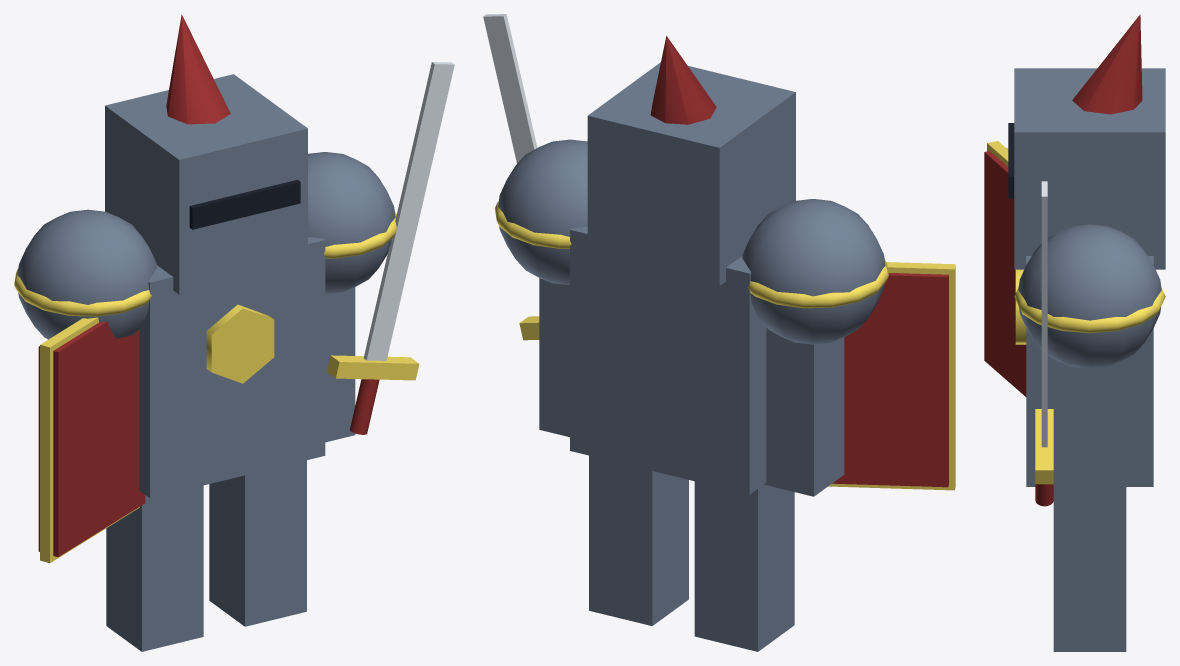
File: avatar_knight.glb
3 views of the same model, side by side, from view 1: azimuth 30°, elevation 25°; view 2: azimuth 150°, elevation 25°; view 3: azimuth 270°, elevation 25° (orthographic). The views are drawn at different scales.
Visible parts, largest first — view 1: Breastplate, Helmet, KnightShield, Leg_1, Pauldron_0, Leg_0, Greatsword, Pauldron_1, ChestEmblem, Arm_1, HelmetPlume, VisorSlit; view 2: Breastplate, Helmet, KnightShield, Pauldron_0, Leg_0, Leg_1, Arm_0, Pauldron_1, Arm_1, Greatsword, HelmetPlume; view 3: Helmet, Pauldron_1, Leg_1, Arm_1, Breastplate, KnightShield, HelmetPlume, Greatsword, VisorSlit, ChestEmblem.
Boxes of the visible parts, x1,y1,x2,y2 form: Breastplate: (139, 237, 325, 498); Helmet: (105, 74, 307, 294); KnightShield: (38, 317, 145, 563); Leg_1: (209, 460, 306, 626); Pauldron_0: (14, 209, 157, 339); Leg_0: (106, 485, 203, 651); Greatsword: (327, 62, 454, 434); Pauldron_1: (308, 152, 397, 293); ChestEmblem: (206, 304, 274, 383); Arm_1: (325, 287, 355, 442); HelmetPlume: (166, 14, 230, 124); VisorSlit: (189, 179, 300, 229); Breastplate: (570, 226, 766, 494); Helmet: (587, 62, 795, 285); KnightShield: (828, 262, 955, 490); Pauldron_0: (742, 199, 888, 344); Leg_0: (694, 481, 794, 651); Leg_1: (589, 455, 688, 625); Arm_0: (764, 327, 844, 496); Pauldron_1: (494, 139, 587, 285); Arm_1: (539, 278, 569, 437); Greatsword: (483, 14, 539, 340); HelmetPlume: (650, 36, 716, 124); Helmet: (1014, 68, 1165, 269); Pauldron_1: (1014, 224, 1165, 368); Leg_1: (1053, 487, 1126, 651); Arm_1: (1059, 362, 1120, 512); Breastplate: (1026, 256, 1153, 486); KnightShield: (984, 141, 1026, 396); HelmetPlume: (1072, 14, 1142, 114); Greatsword: (1035, 181, 1053, 506); VisorSlit: (1008, 123, 1014, 198); ChestEmblem: (1015, 269, 1026, 344).
Bounding box in the file's own units: 1.69 × 2.17 × 0.5991.
